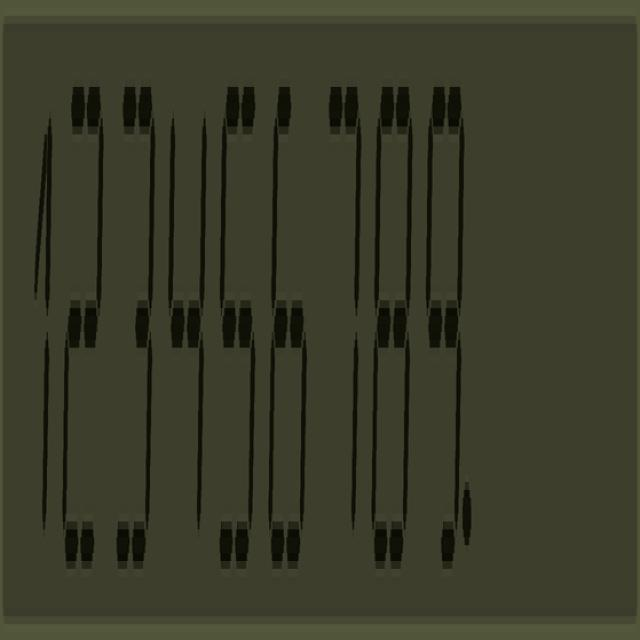.: (460, 478, 474, 560)
1: (32, 94, 54, 544)
2: (58, 50, 104, 569)
3: (116, 50, 157, 588)
4: (167, 85, 210, 538)
5: (217, 60, 257, 572)
6: (268, 63, 308, 585)
7: (326, 60, 361, 556)
8: (370, 63, 412, 601)
9: (424, 76, 466, 569)
